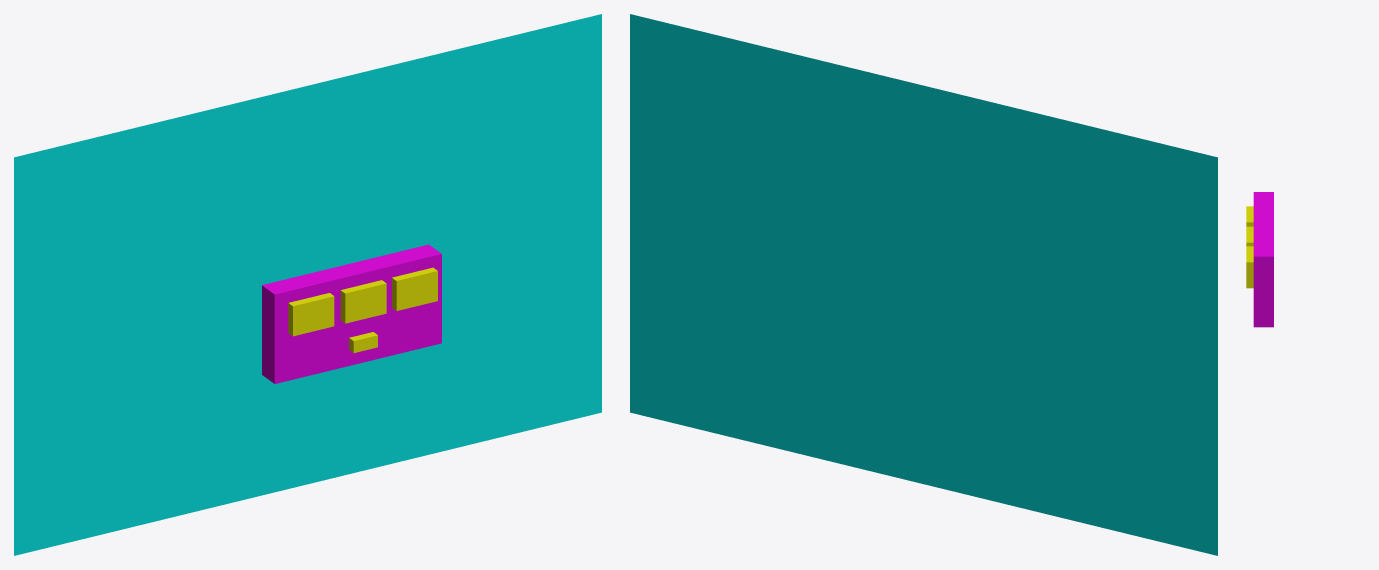
The picture shows the model from 3 angles, left to right: view 1: azimuth 30°, elevation 25°; view 2: azimuth 150°, elevation 25°; view 3: azimuth 270°, elevation 25°; orthographic projection. The views are drawn at different scales.
Parts seen in each view (by area): view 1: SkyPlane_001, UI_001, UI_003, UI_002, UI_004; view 2: SkyPlane_001; view 3: UI_001, UI_004, UI_002, UI_003.
Boxes of the visible parts, x1=… form: SkyPlane_001: x1=14, y1=14, x2=601, y2=555; UI_001: x1=262, y1=244, x2=441, y2=383; UI_003: x1=340, y1=280, x2=386, y2=323; UI_002: x1=288, y1=293, x2=334, y2=336; UI_004: x1=392, y1=267, x2=437, y2=310; SkyPlane_001: x1=630, y1=14, x2=1217, y2=555; UI_001: x1=1253, y1=192, x2=1273, y2=327; UI_004: x1=1246, y1=246, x2=1253, y2=286; UI_002: x1=1246, y1=206, x2=1253, y2=226; UI_003: x1=1246, y1=226, x2=1253, y2=246.
Size of the model in its own units: 46.65 by 30.23 by 10.29.
